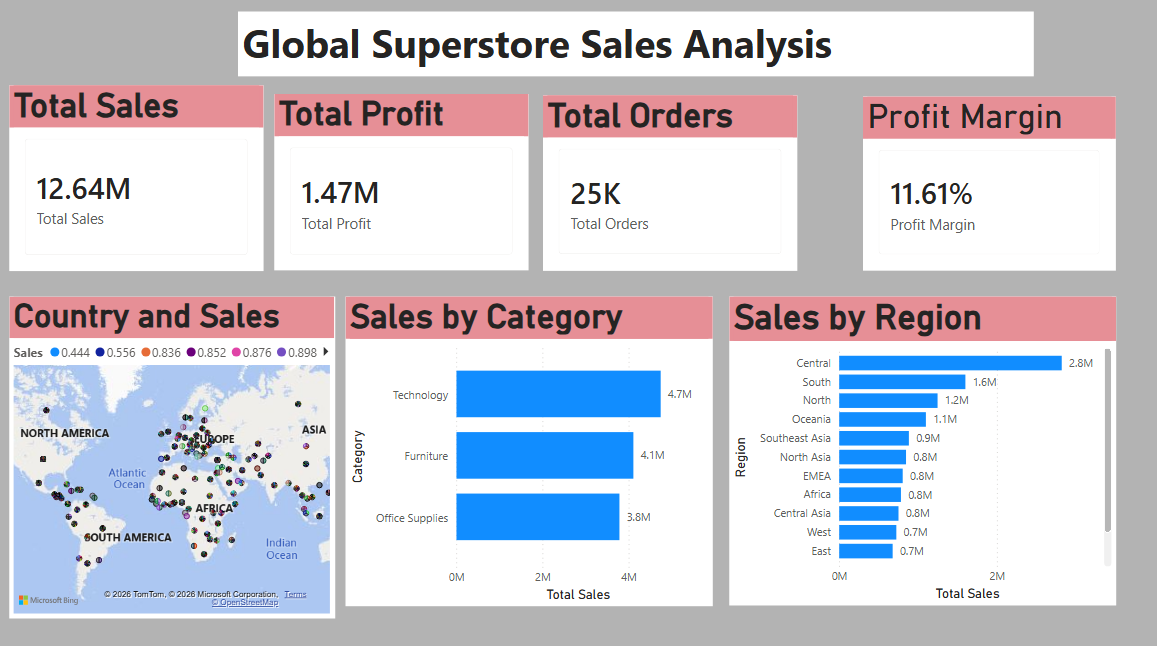

This screenshot's page, from the dashboard's own definition file:
{"tool":"powerbi","page":{"name":"Page 1","canvas":[1280,720],"ordinal":0},"visuals":[{"type":"cardVisual","title":"Total Sales","fields":{"Data":["Global Superstar.Total Sales"]},"box":[12.8,99.8,279.4,203.8],"z":0},{"type":"cardVisual","title":"Total Orders","fields":{"Data":["Global Superstar.Total Orders"]},"box":[598.7,111.2,279.4,192.4],"z":1000},{"type":"cardVisual","title":"Total Profit","fields":{"Data":["Global Superstar.Total Profit"]},"box":[303.6,109.8,279.4,193.9],"z":2000},{"type":"cardVisual","title":"Profit Margin","fields":{"Data":["Global Superstar.Profit Margin"]},"box":[949.3,112.6,278,191],"z":3000},{"type":"barChart","title":"Sales by Region","fields":{"Category":["Global Superstar.Region"],"Y":["Global Superstar.Total Sales"]},"box":[802.5,332.1,424.8,339.2],"z":4000},{"type":"textbox","box":[263.7,18.5,873.8,71.3],"z":5000},{"type":"barChart","title":"Sales by Category","fields":{"Category":["Global Superstar.Category"],"Y":["Global Superstar.Total Sales"]},"box":[381.5,332.1,403.4,340.3],"z":6000},{"type":"map","fields":{"Category":["Global Superstar.Country"],"Series":["Global Superstar.Sales"]},"box":[12.3,332.1,356.8,352.7],"z":7000}]}

Visuals, with their boxes in screenshot pixels (x1, y1, x2, y2), scaled from the page's 1280x720 canvas onto the 1157x646 screenshot:
"Total Sales" cardVisual: 12 90 264 272
"Total Orders" cardVisual: 541 100 794 272
"Total Profit" cardVisual: 274 99 527 272
"Profit Margin" cardVisual: 858 101 1109 272
"Sales by Region" barChart: 725 298 1109 602
textbox: 238 17 1028 81
"Sales by Category" barChart: 345 298 709 603
map - Global Superstar.Country x Global Superstar.Sales: 11 298 334 614
